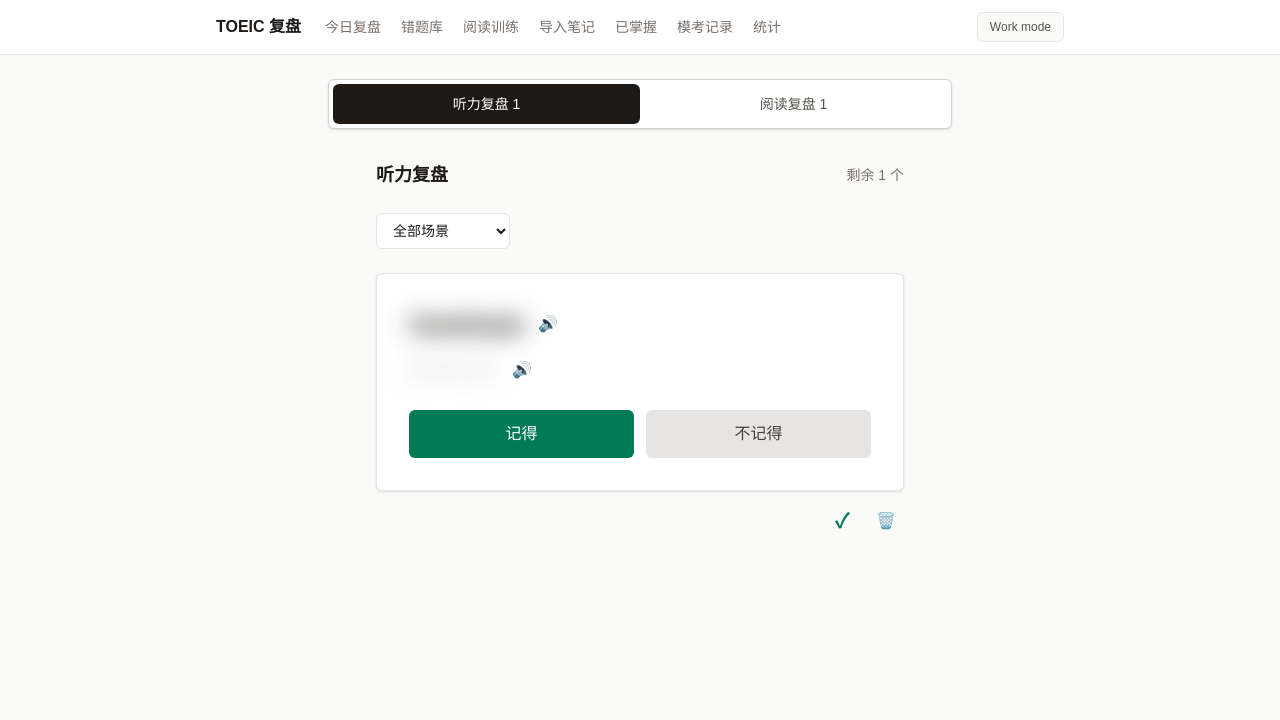
Test: review route composition › loads both counts together, prefetches reading, and preserves both mounted panels
The image size is (1280, 720).
Click the tab "阅读复盘 1": {"x": 794, "y": 104} [640, 84, 947, 124]
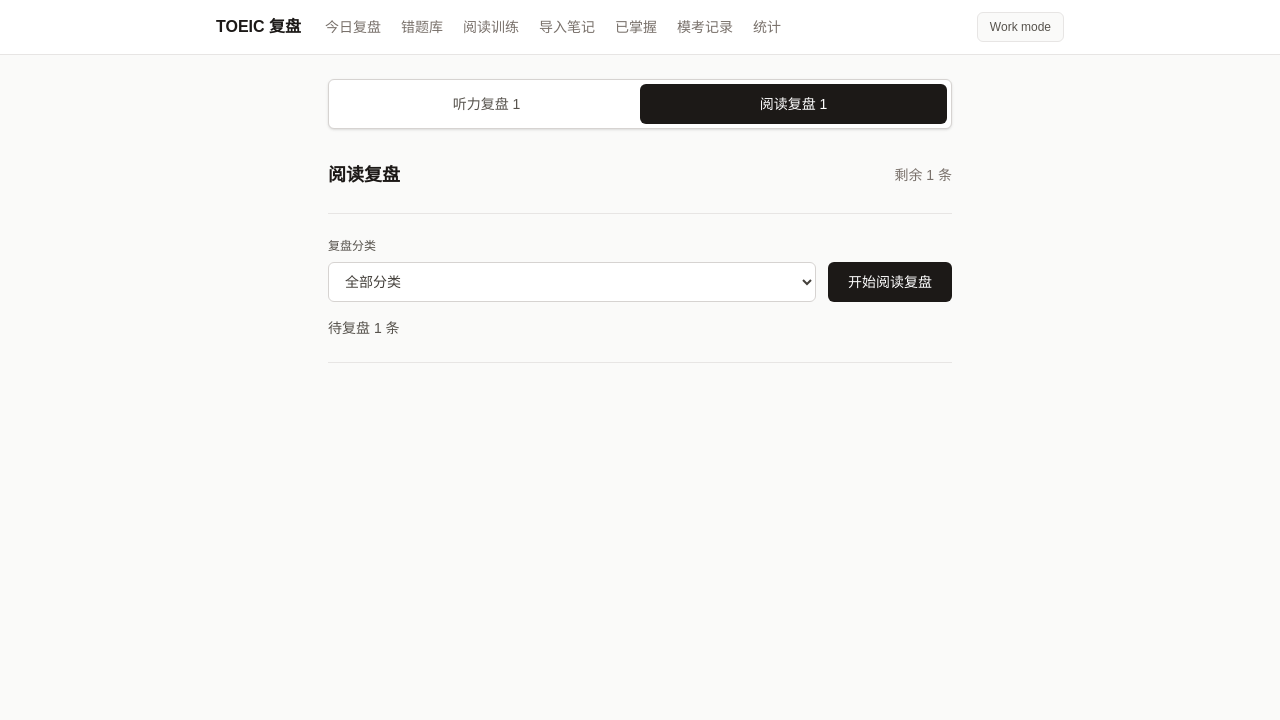
Result: the text "开始阅读复盘" is shown
Click the button "开始阅读复盘": {"x": 890, "y": 282} [828, 262, 952, 302]
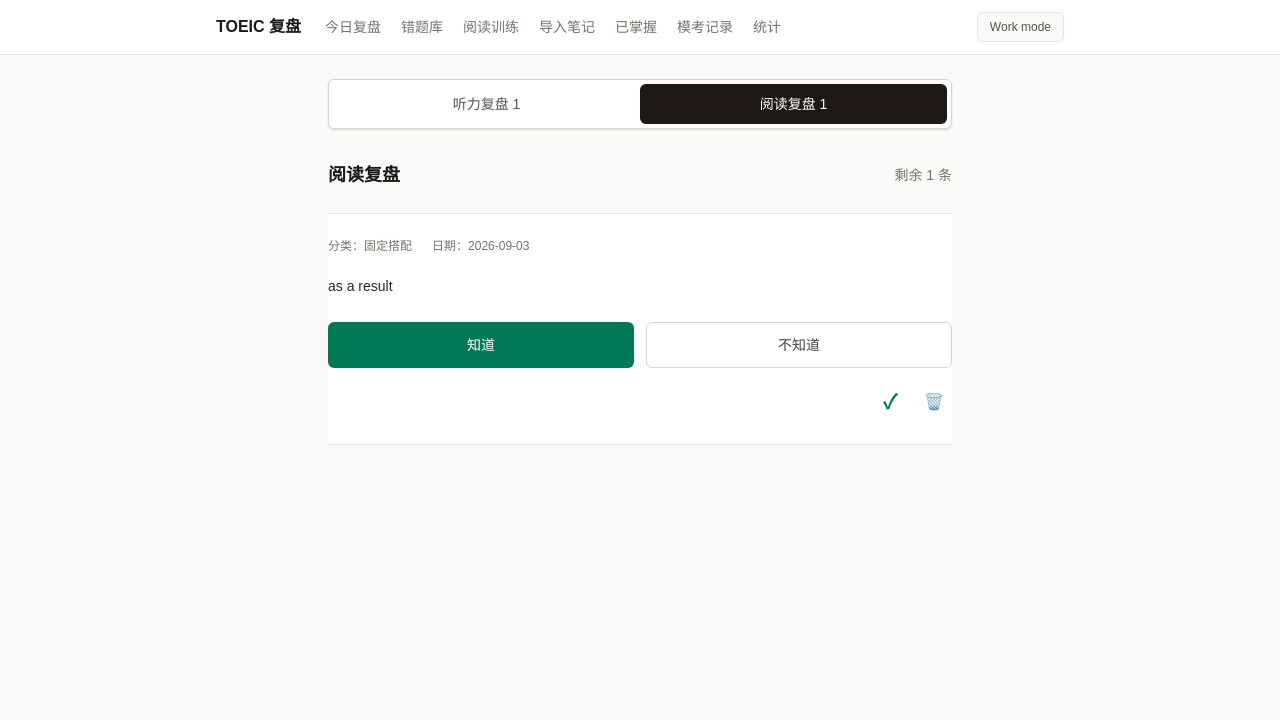
Click the button "知道": {"x": 481, "y": 345} [328, 322, 634, 368]
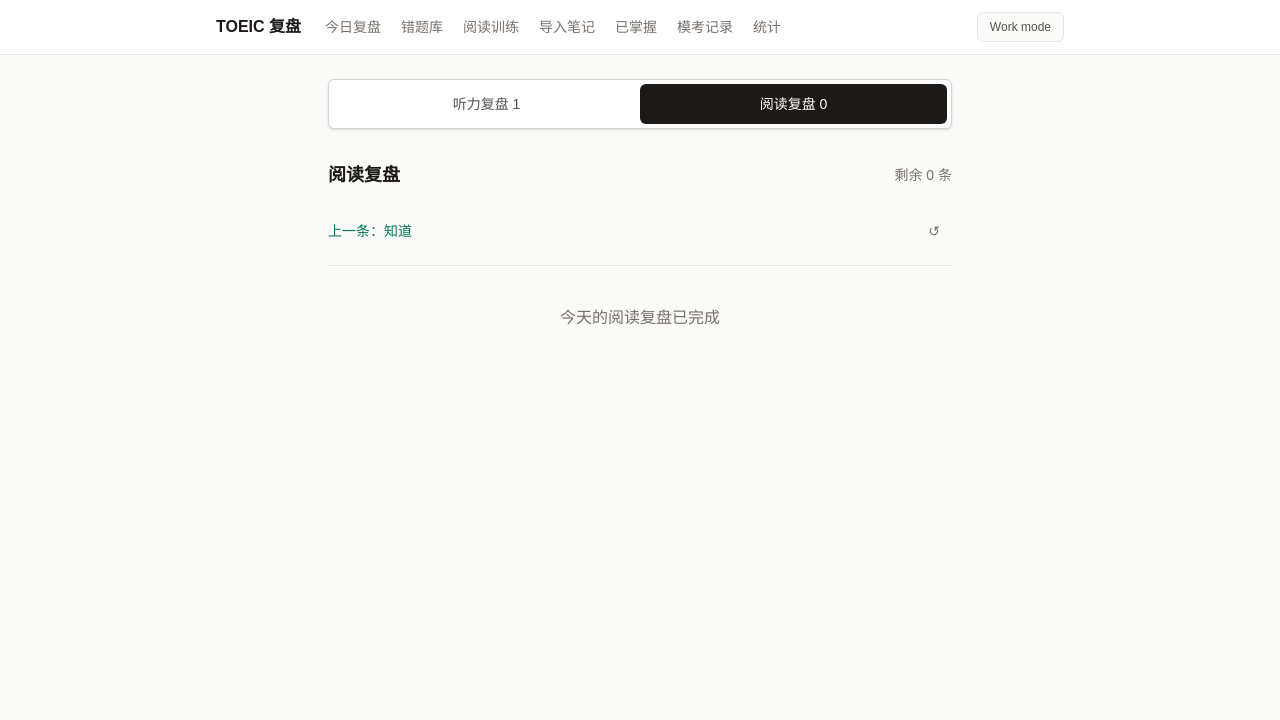
Result: the text "阅读复盘 0" is shown at [640, 84, 947, 124]
